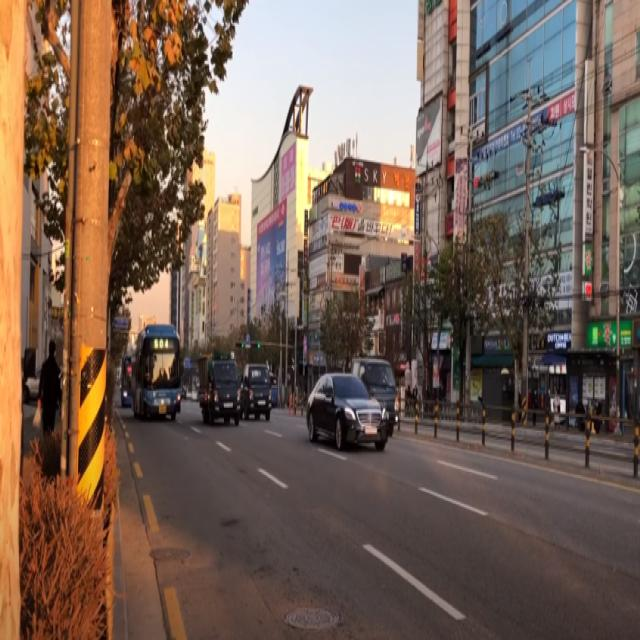bus-number: (153, 338, 169, 350)
